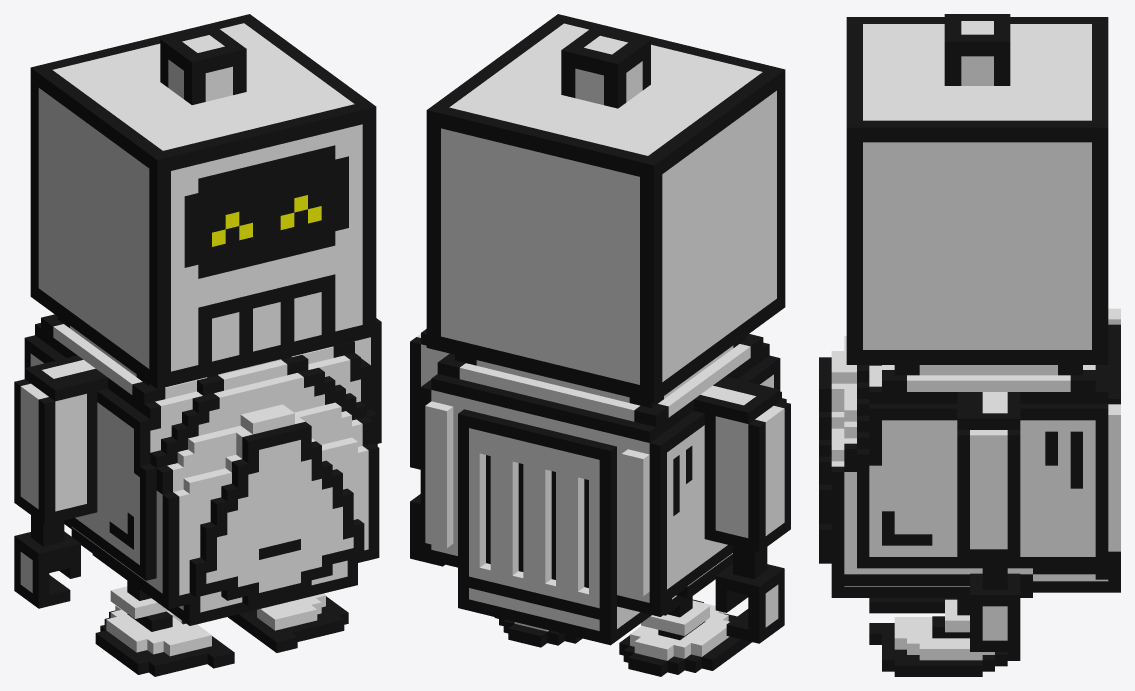
File: robot.fbx
3 renders of one model, left to right at view 1: azimuth 30°, elevation 25°; view 2: azimuth 150°, elevation 25°; view 3: azimuth 270°, elevation 25°, orthographic. The views are drawn at different scales.
Parts seen in each view (by area): view 1: robot; view 2: robot; view 3: robot.
Boxes of the visible parts, <box> form: robot: <box>14,14,381,676</box>; robot: <box>410,14,790,676</box>; robot: <box>819,14,1120,676</box>.
Size of the model in its own units: 52.84 by 86.37 by 39.63.
Materials: 2 (2 with a texture image).
